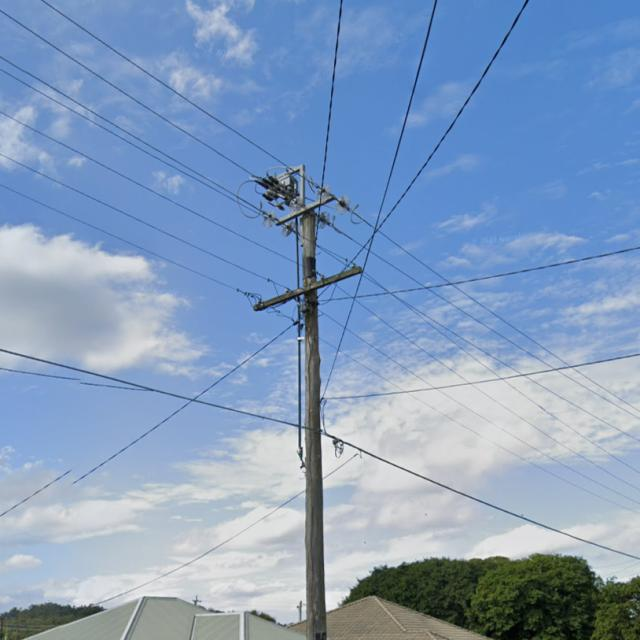HV-switch: (254, 162, 306, 210)
HV-transmission: (262, 182, 362, 238)
crossarm: (252, 264, 362, 312), (274, 194, 336, 228)
timber-pole: (299, 207, 326, 640)
